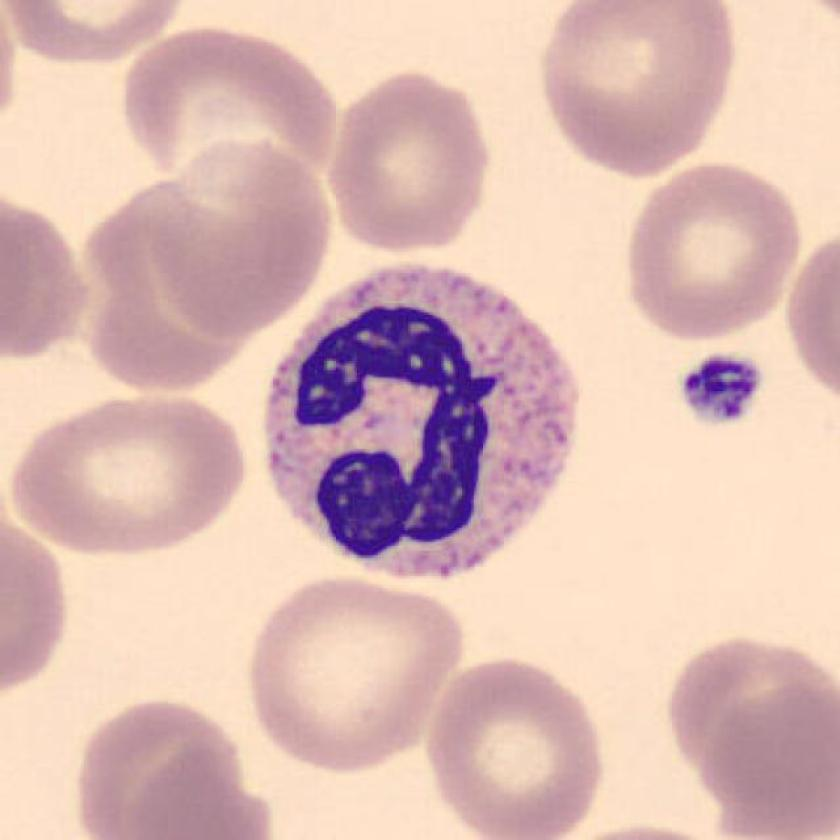neutrophil: (268, 265, 579, 577)
